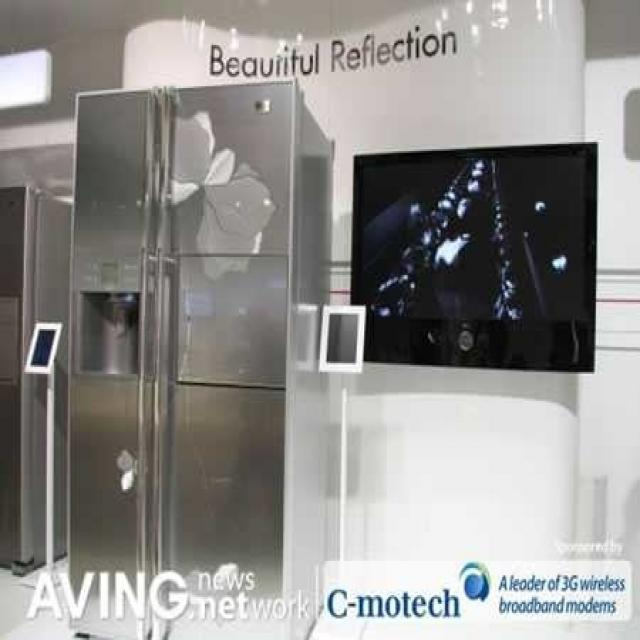refrigerator: (68, 77, 298, 629)
